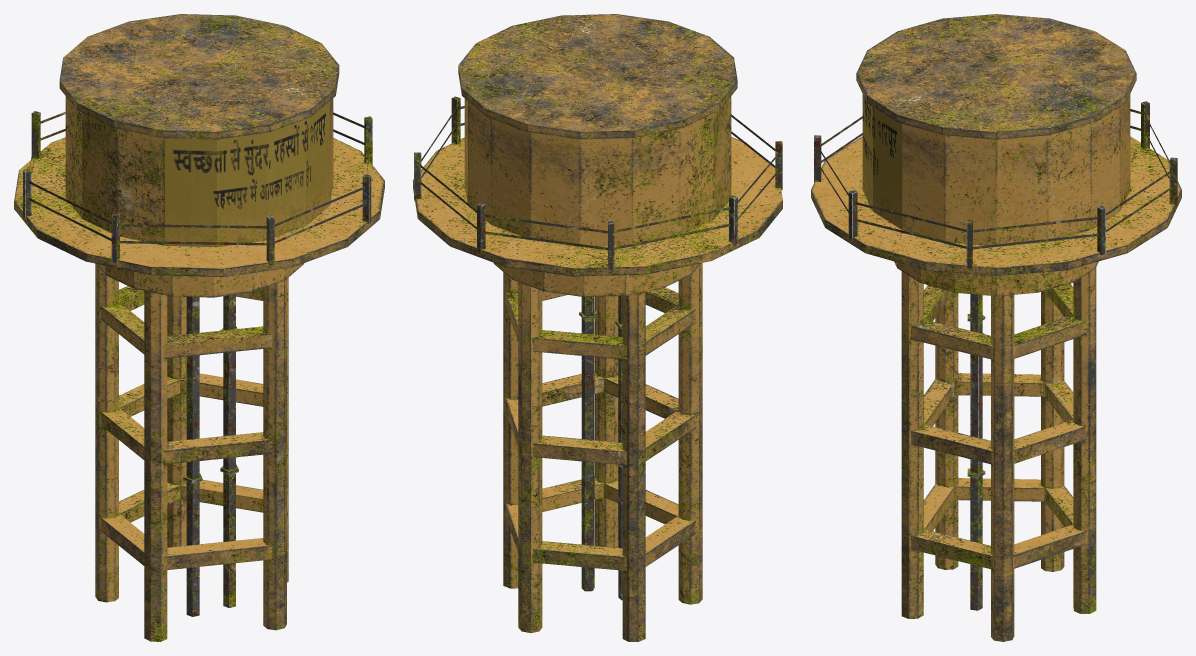
Rendered from WaterTank2.glb.
3 renders of one model, left to right at view 1: azimuth 30°, elevation 25°; view 2: azimuth 150°, elevation 25°; view 3: azimuth 270°, elevation 25°, orthographic.
Visible parts, largest first — view 1: Object_2; view 2: Object_2; view 3: Object_2.
Boxes of the visible parts, x1,y1,x2,y2 form: Object_2: [14, 14, 384, 641]; Object_2: [413, 14, 782, 641]; Object_2: [811, 14, 1181, 641].
Size of the model in its own units: 223 by 348 by 223.
1 material, 1 textured.
